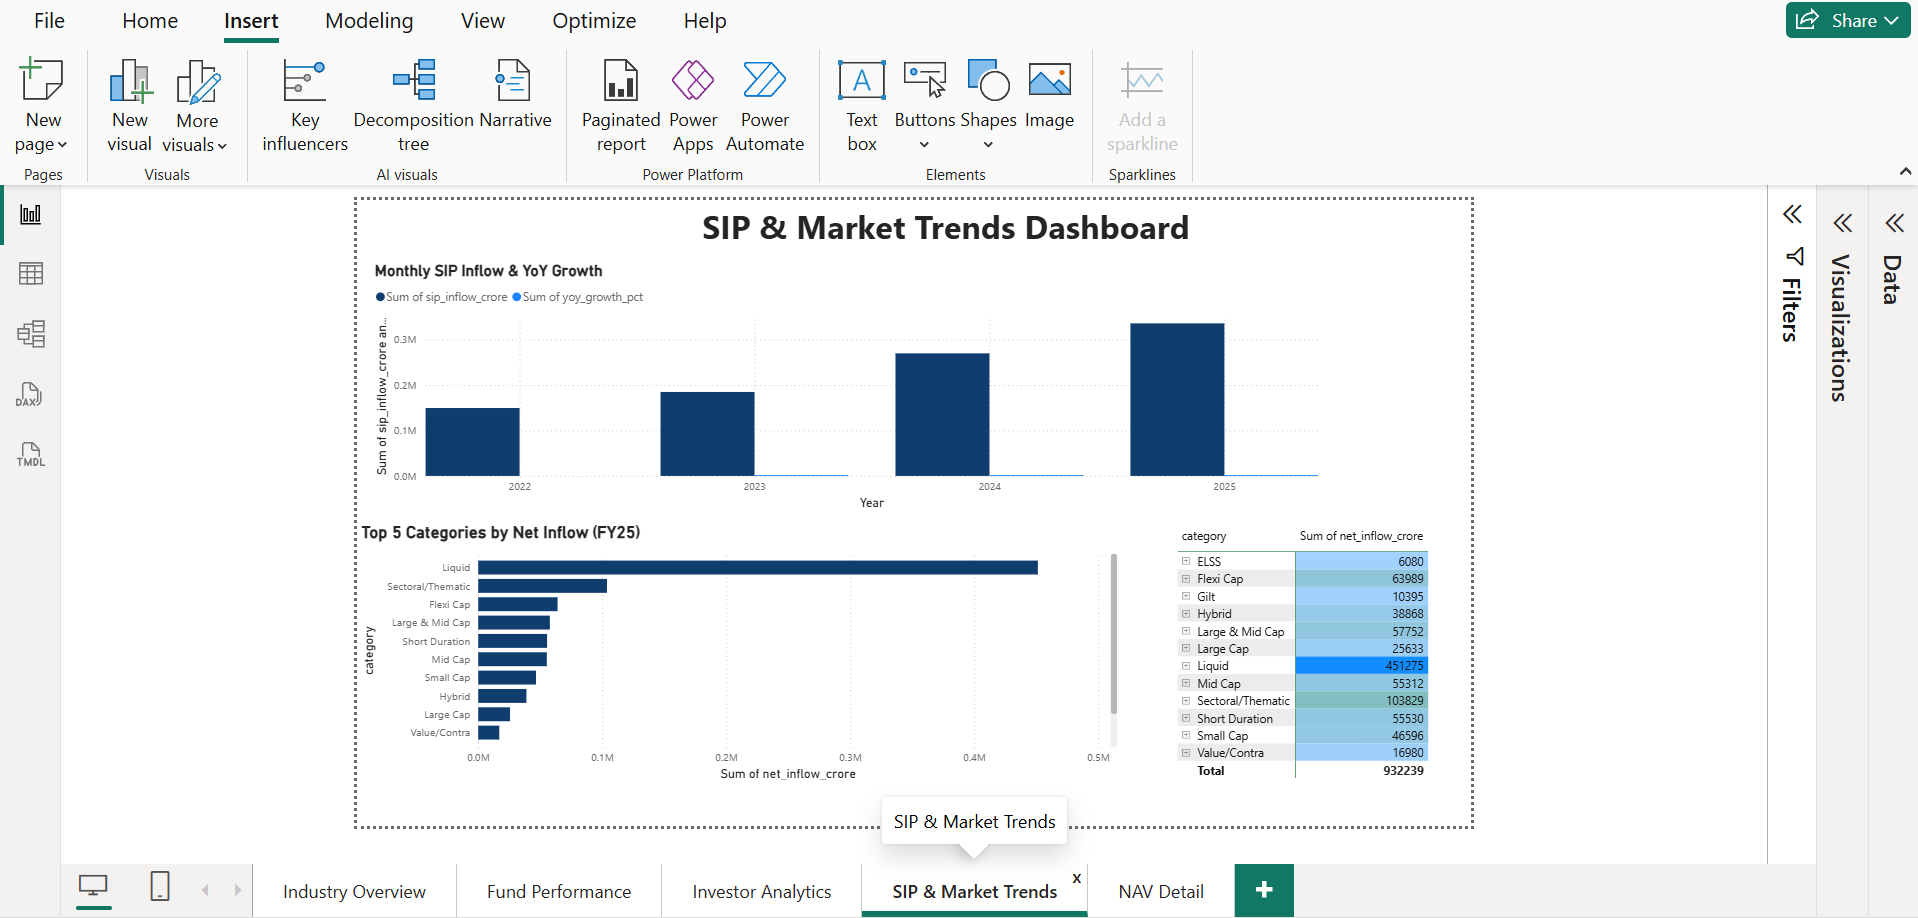

Layout of this report page (visuals, bound fields, positions):
{"tool":"powerbi","page":{"name":"SIP & Market Trends","canvas":[1280,720],"ordinal":3},"visuals":[{"type":"textbox","box":[270.2,0,812.6,69.9],"z":0},{"type":"lineClusteredColumnComboChart","title":"Monthly SIP Inflow & YoY Growth","fields":{"Category":["04_monthly_sip_inflows.month.Variation.Date Hierarchy.Year","04_monthly_sip_inflows.month.Variation.Date Hierarchy.Quarter","04_monthly_sip_inflows.month.Variation.Date Hierarchy.Month","04_monthly_sip_inflows.month.Variation.Date Hierarchy.Day"],"Y":["Sum(04_monthly_sip_inflows.sip_inflow_crore)","Sum(04_monthly_sip_inflows.yoy_growth_pct)"]},"box":[15.1,69.9,1094.2,289.1],"z":1000},{"type":"pivotTable","fields":{"Rows":["05_category_inflows.category","05_category_inflows.month.Variation.Date Hierarchy.Year","05_category_inflows.month.Variation.Date Hierarchy.Quarter","05_category_inflows.month.Variation.Date Hierarchy.Month","05_category_inflows.month.Variation.Date Hierarchy.Day"],"Values":["Sum(05_category_inflows.net_inflow_crore)"]},"box":[937.3,370.4,342,311.8],"z":2000},{"type":"clusteredBarChart","title":"Top 5 Categories by Net Inflow (FY25)","fields":{"Category":["05_category_inflows.category"],"Y":["Sum(05_category_inflows.net_inflow_crore)"]},"box":[0,370.4,878.7,300.5],"z":3000}]}

Visuals, with their boxes on the page's 1280x720 design canvas (x1, y1, x2, y2). These are canvas units, not pixel positions in the 1918x918 screenshot, which may show the page scaled, cropped or inside an application window:
textbox: (left=270, top=0, right=1083, bottom=70)
"Monthly SIP Inflow & YoY Growth" lineClusteredColumnComboChart: (left=15, top=70, right=1109, bottom=359)
pivotTable - 05_category_inflows.category x 05_category_inflows.month.Variation.Date Hierarchy.Year: (left=937, top=370, right=1279, bottom=682)
"Top 5 Categories by Net Inflow (FY25)" clusteredBarChart: (left=0, top=370, right=879, bottom=671)
